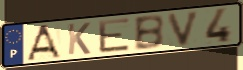4: (203, 6, 234, 44)
A: (25, 23, 63, 62)
B: (132, 14, 166, 52)
E: (97, 16, 132, 55)
K: (67, 21, 92, 56)
V: (166, 9, 203, 48)
